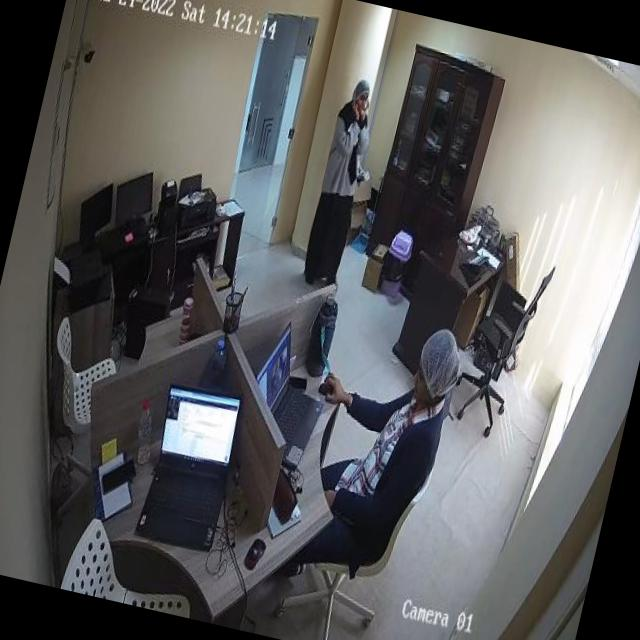hairnet: (414, 331, 467, 398), (350, 75, 374, 100)
